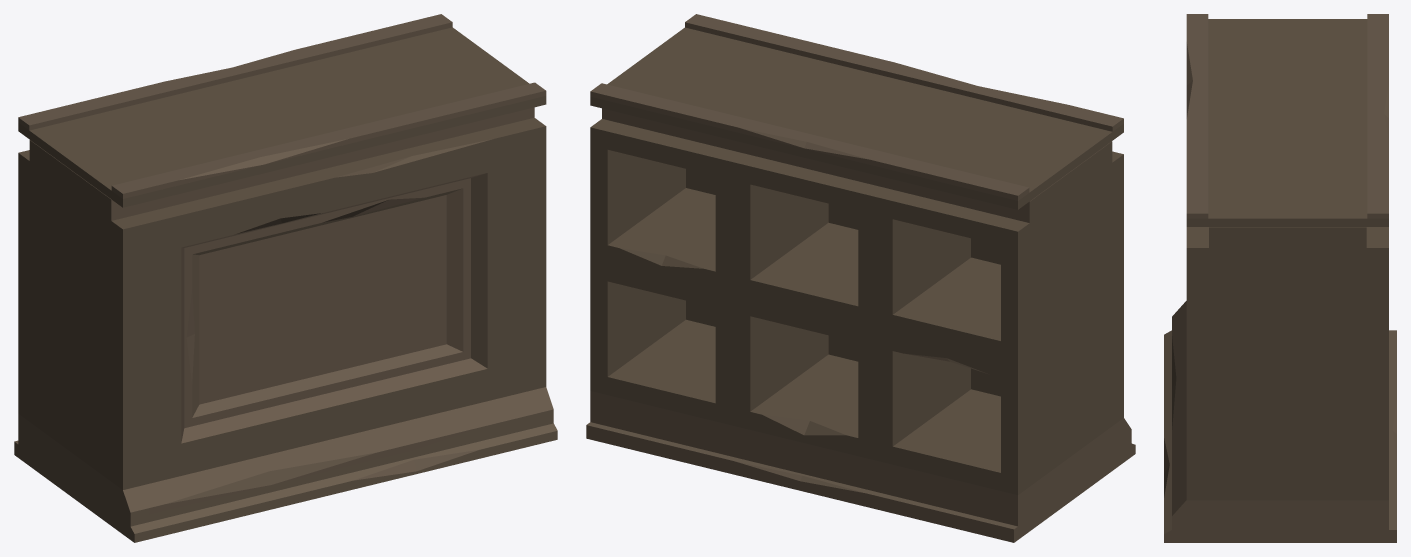
File: SFHW_Reception_Table_001.fbx
3 views of the same model, side by side, from view 1: azimuth 30°, elevation 25°; view 2: azimuth 150°, elevation 25°; view 3: azimuth 270°, elevation 25° (orthographic). The views are drawn at different scales.
Visible parts, largest first — view 1: SFHW_Reception_Table_001; view 2: SFHW_Reception_Table_001; view 3: SFHW_Reception_Table_001.
Part boxes in pixels (x1,y1,x2,y2): SFHW_Reception_Table_001: [14, 14, 557, 542]; SFHW_Reception_Table_001: [586, 14, 1135, 542]; SFHW_Reception_Table_001: [1164, 14, 1396, 542].
Size of the model in its own units: 140 by 108 by 68.94.
